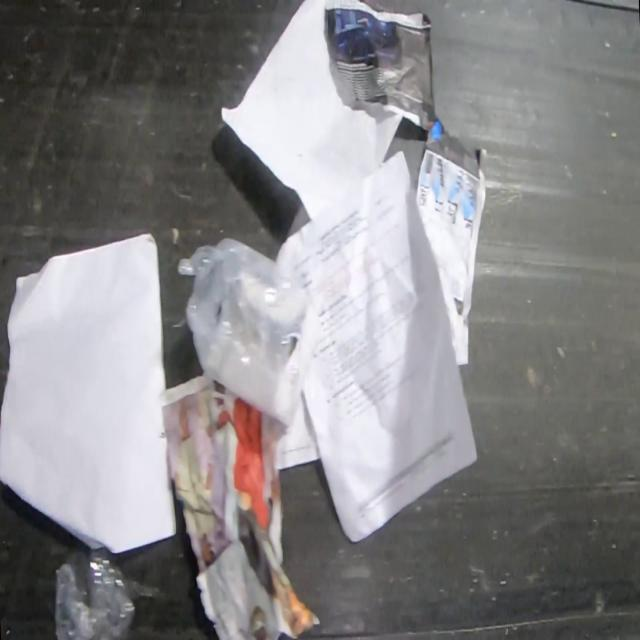rigid_plastic: (55, 547, 136, 640)
soft_plastic: (178, 236, 323, 428)
